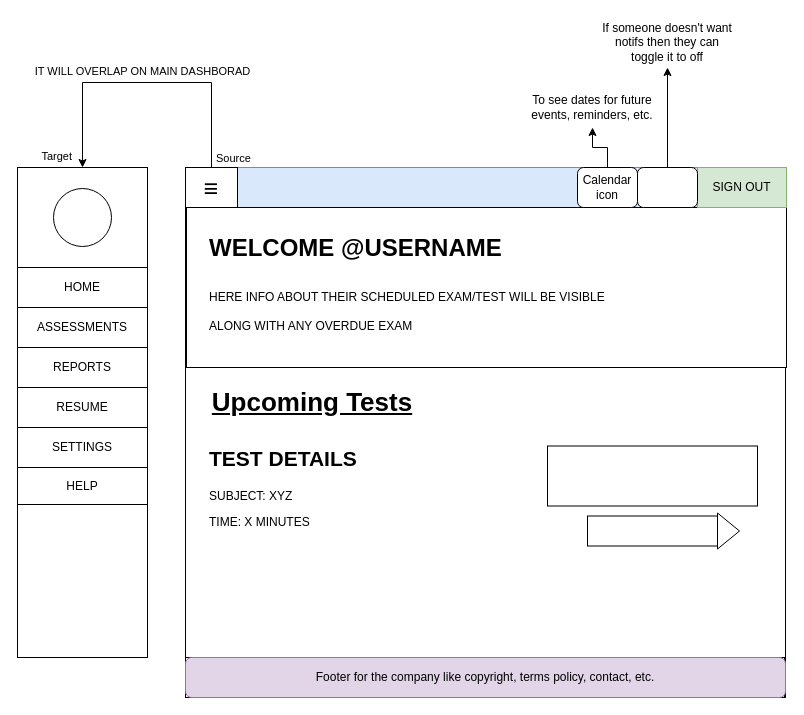
This 804x715 diagram has some shape labels left out. The shapes that lost their labels are listed below. From the top down, each one's box as (x1, y1, x2, y2) in pixels, then its label:
(184, 166, 786, 208): Dashboard
(636, 166, 698, 208): Bell icon for notifs
(52, 188, 112, 246): Profile picture
(546, 445, 758, 506): TIMER WHICH SHOWS TIME LEFT TO START THE TEST
(586, 515, 718, 546): START TEST BUTTON
